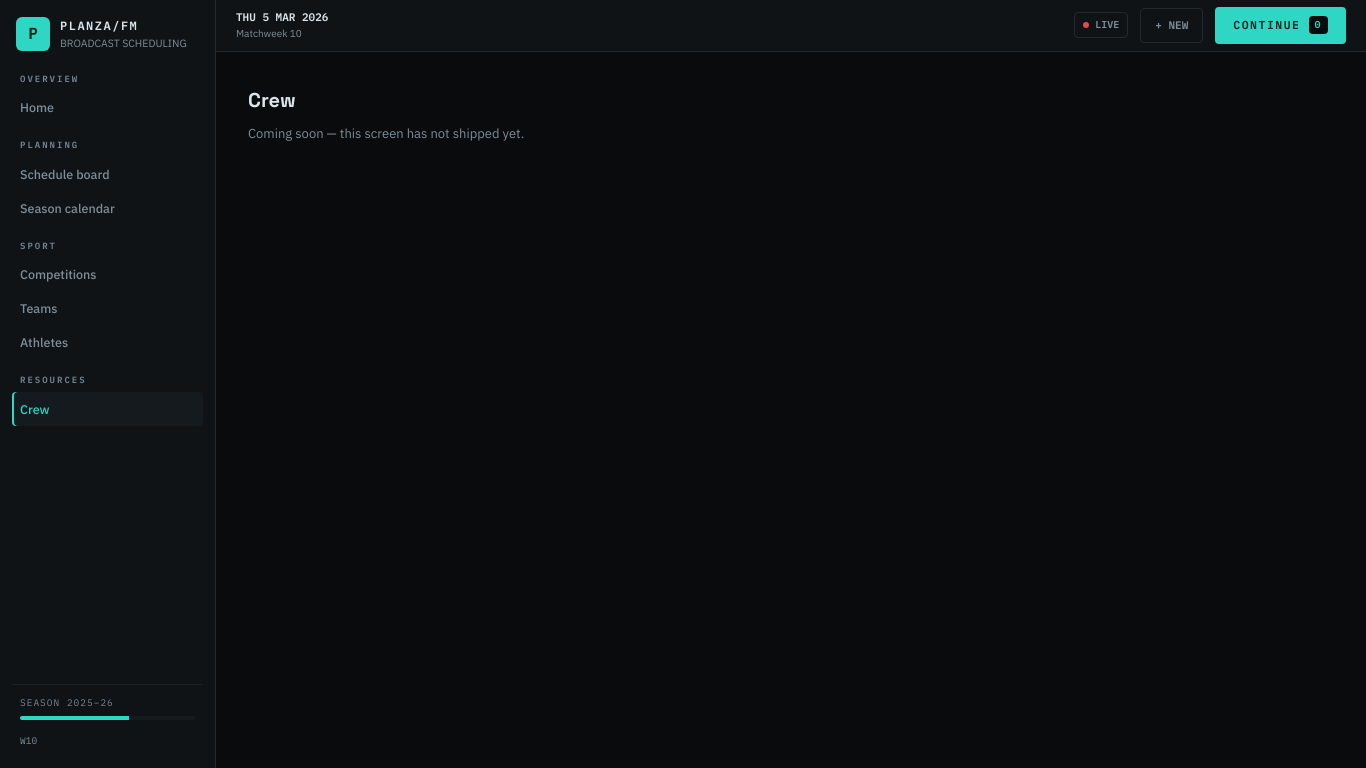
Test: routing inside the shell (never a 404, never a crash — Story FM1-2 AC) › nav item schedule reaches the real FmScheduleBoard (FM2-1-T2 override, not a placeholder)
Click the link with test id "fm-nav-schedule": x=65, y=174 [20, 166, 110, 182]
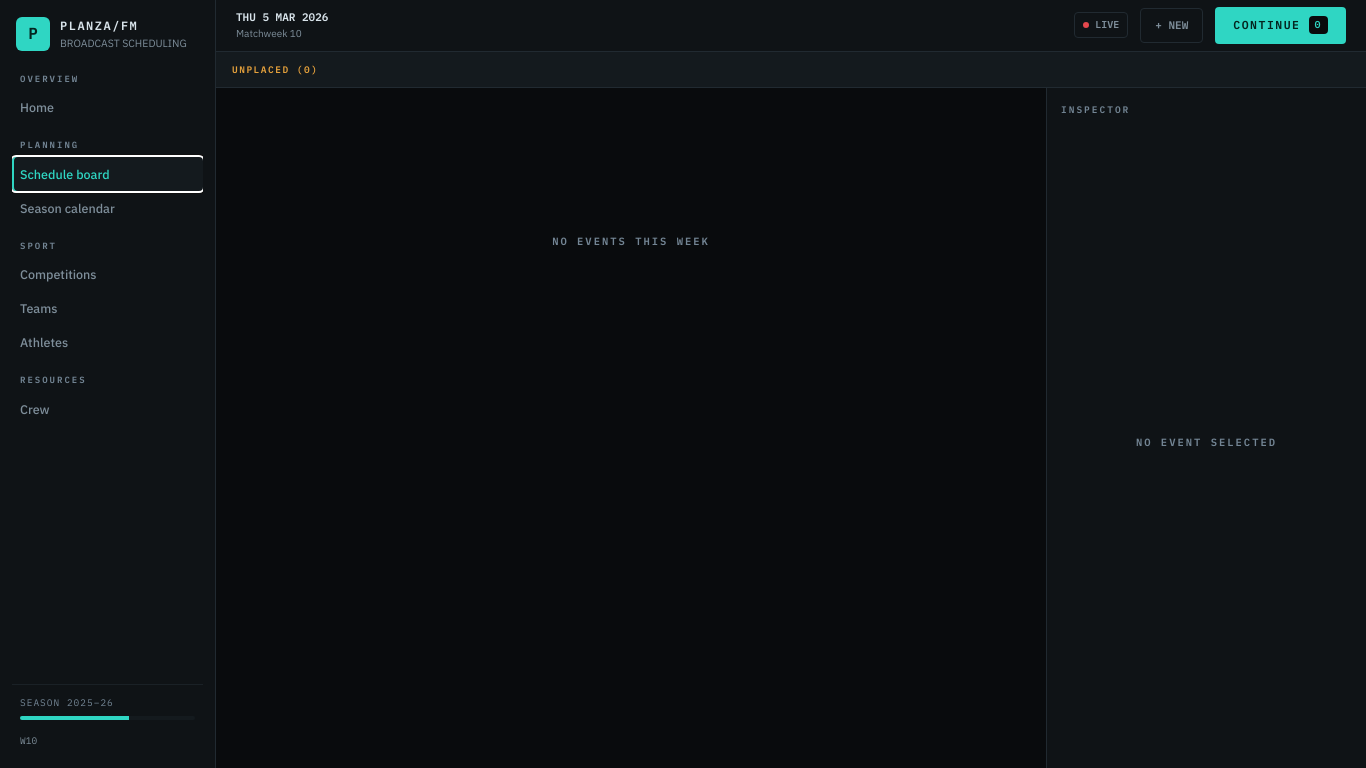
Result: the element with test id "fm-unplaced-tray" is shown at [216, 52, 1365, 88]
Result: the element with test id "ops-inspector" is shown at [1046, 88, 1365, 767]
